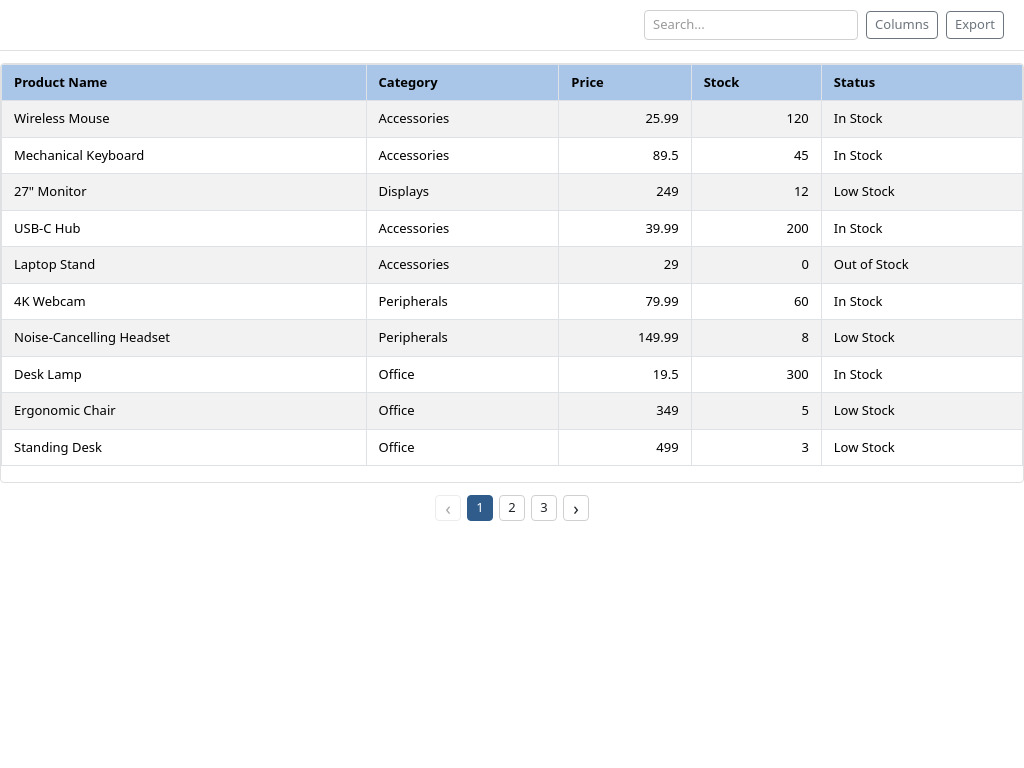
it: DataTableComponent › shows the empty state and a clear-search action when a search matches nothing
Step 1. Type "no such product" into the search field with class "data-table__search" → coordinates (751, 25), box [644, 10, 858, 40]
Wait 300 ms
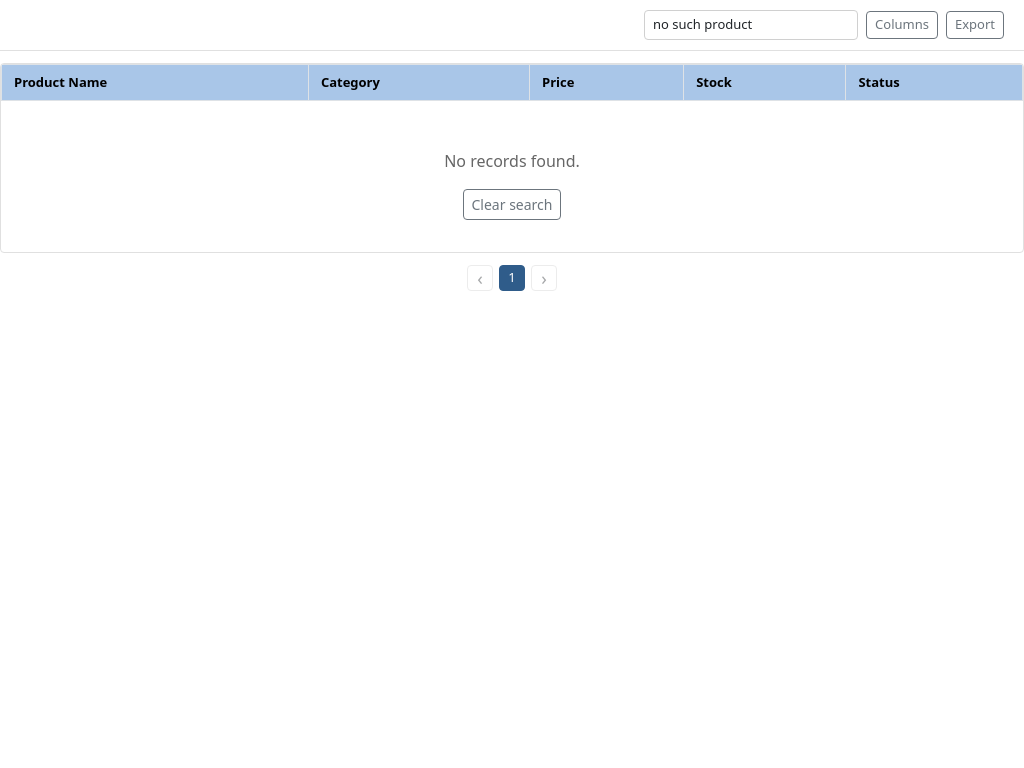
Now the text "No records found." is shown, box [444, 150, 580, 172]
Now the button "Clear search" is shown, box [462, 189, 562, 220]
